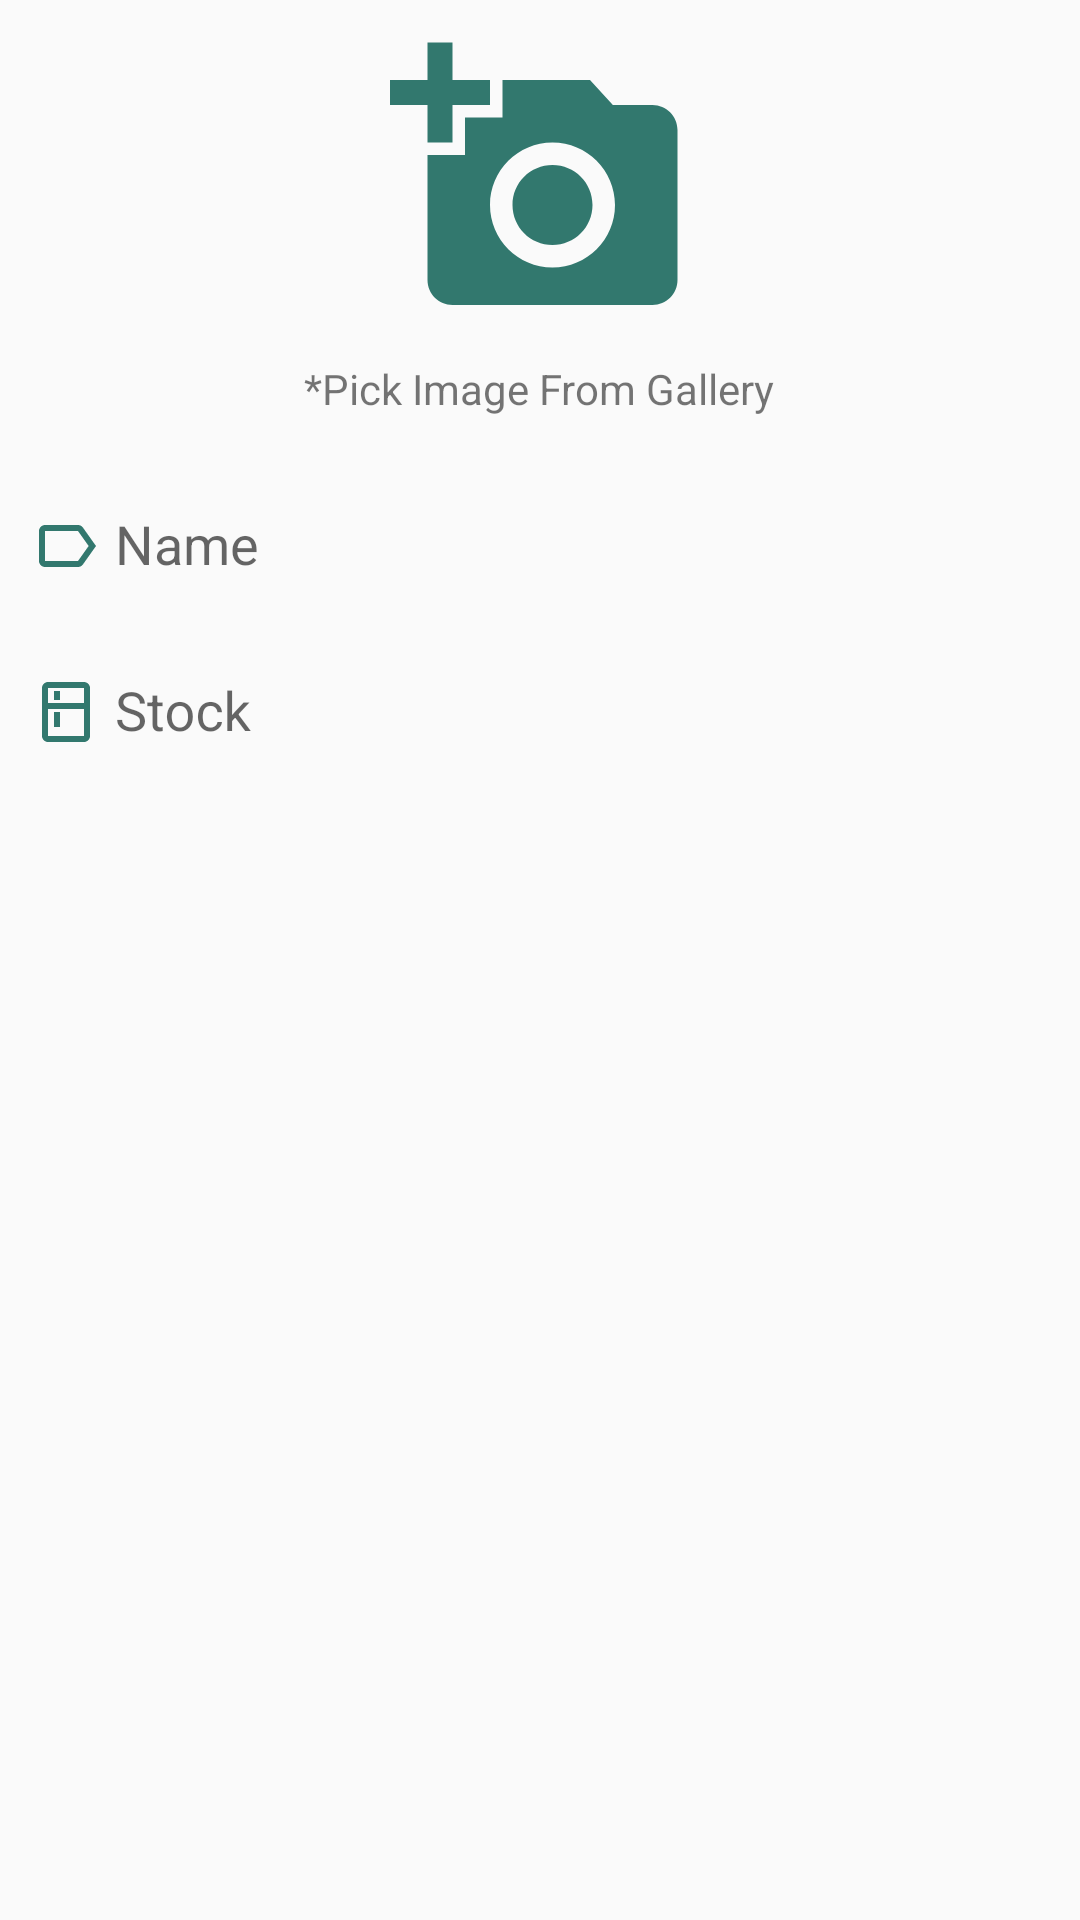

Screen size 1080px×1920px. Icon name, then its box in pixels as (x1, y1, x2, y2):
photo: (390, 42, 678, 305)
